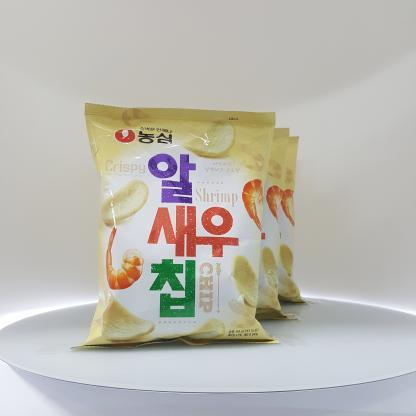Plastic Packaging: (67, 89, 311, 371)
